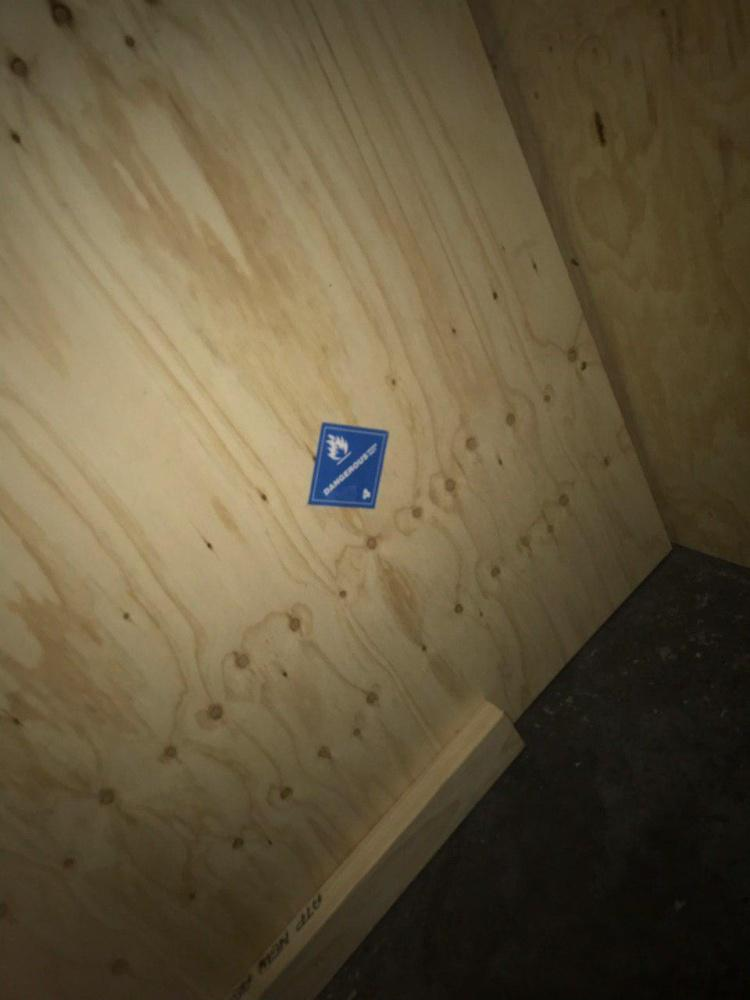dangerous-when-wet: (309, 421, 390, 509)
